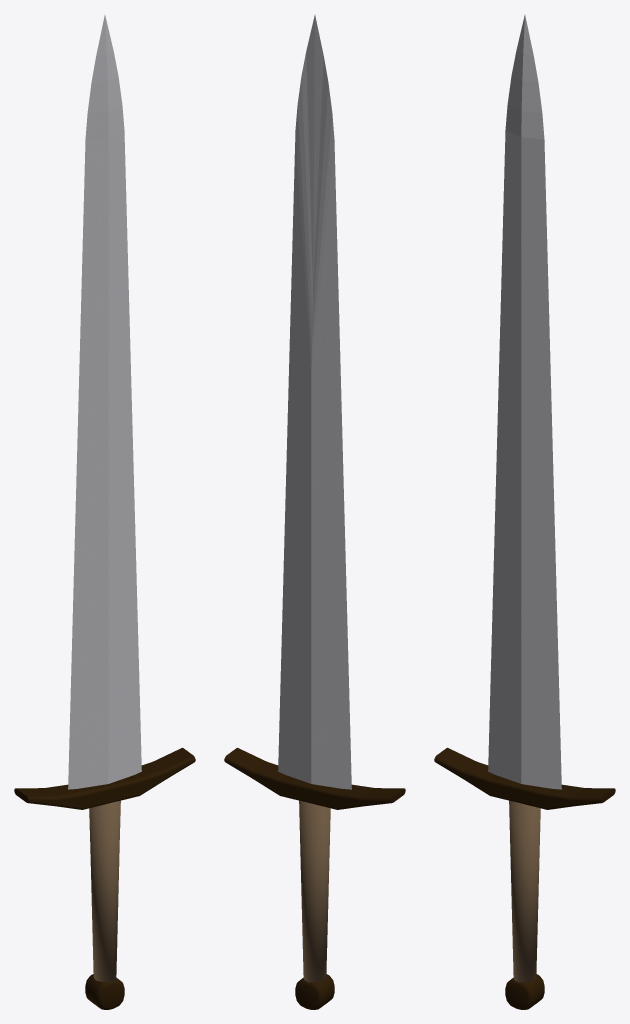
Rendered from Short Sword.fbx.
3 views of the same model, side by side, from view 1: azimuth 30°, elevation 25°; view 2: azimuth 150°, elevation 25°; view 3: azimuth 330°, elevation 25° (orthographic).
Parts seen in each view (by area): view 1: Sword; view 2: Sword; view 3: Sword.
Boxes of the visible parts, x1,y1,x2,y2 form: Sword: [14, 15, 195, 1009]; Sword: [224, 15, 405, 1009]; Sword: [434, 15, 615, 1009].
Size of the model in its own units: 24.15 by 3.86 by 137.
